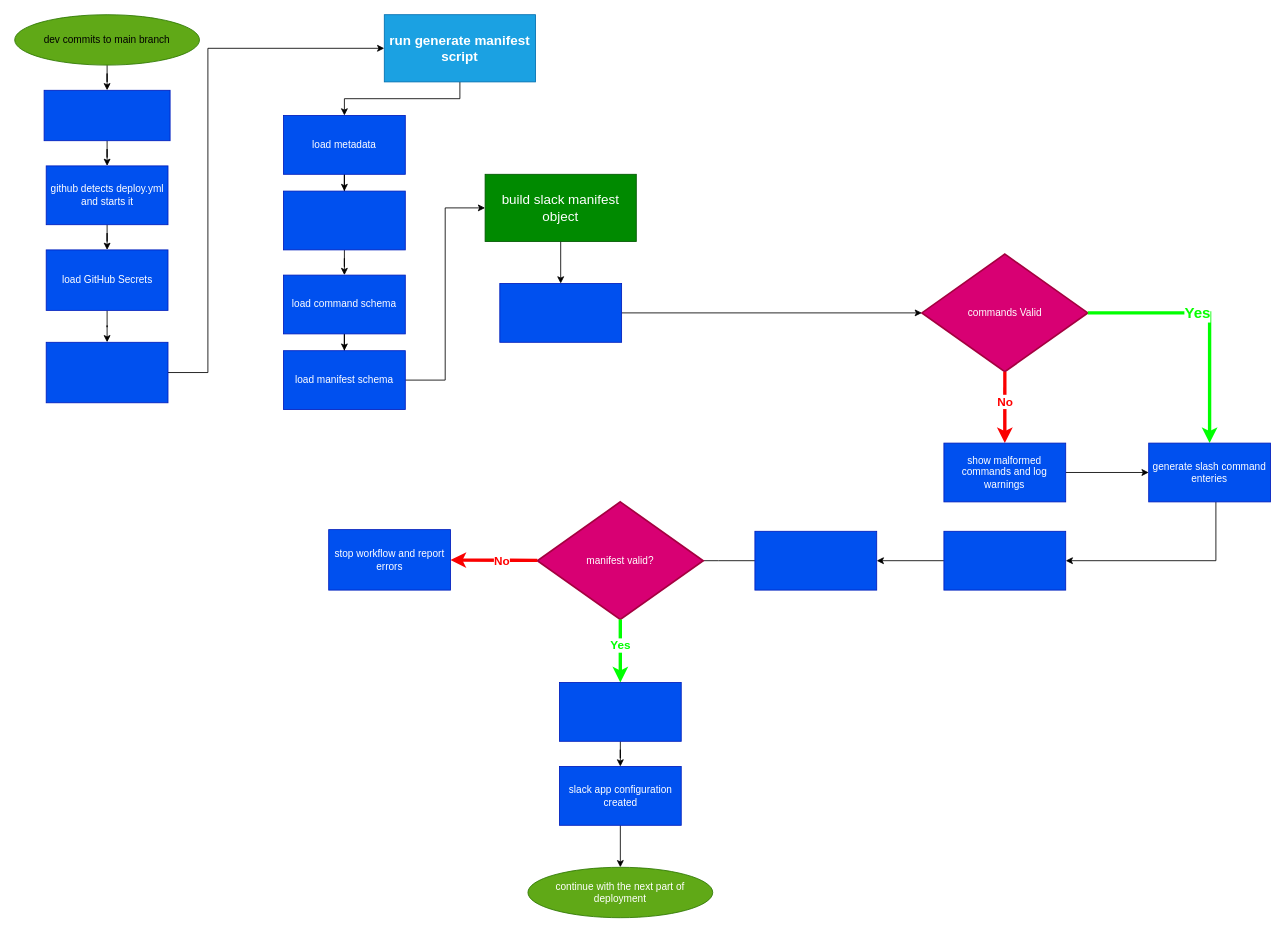
The diagram is 1285 pixels wide and 932 high, and some of its shapes have lost their labels. Here are the shapes that lost their labels. From the top down, the box of each, then its label:
(43, 89, 170, 141): github repo recieves push
(283, 190, 405, 250): load command definition
(499, 283, 622, 342): validate command with AJV
(45, 341, 168, 403): install node.js dependencies
(754, 530, 877, 590): validate manifest.json with AJV
(943, 530, 1066, 590): create manifest.json
(559, 682, 681, 741): sync manifest.json to slack API
